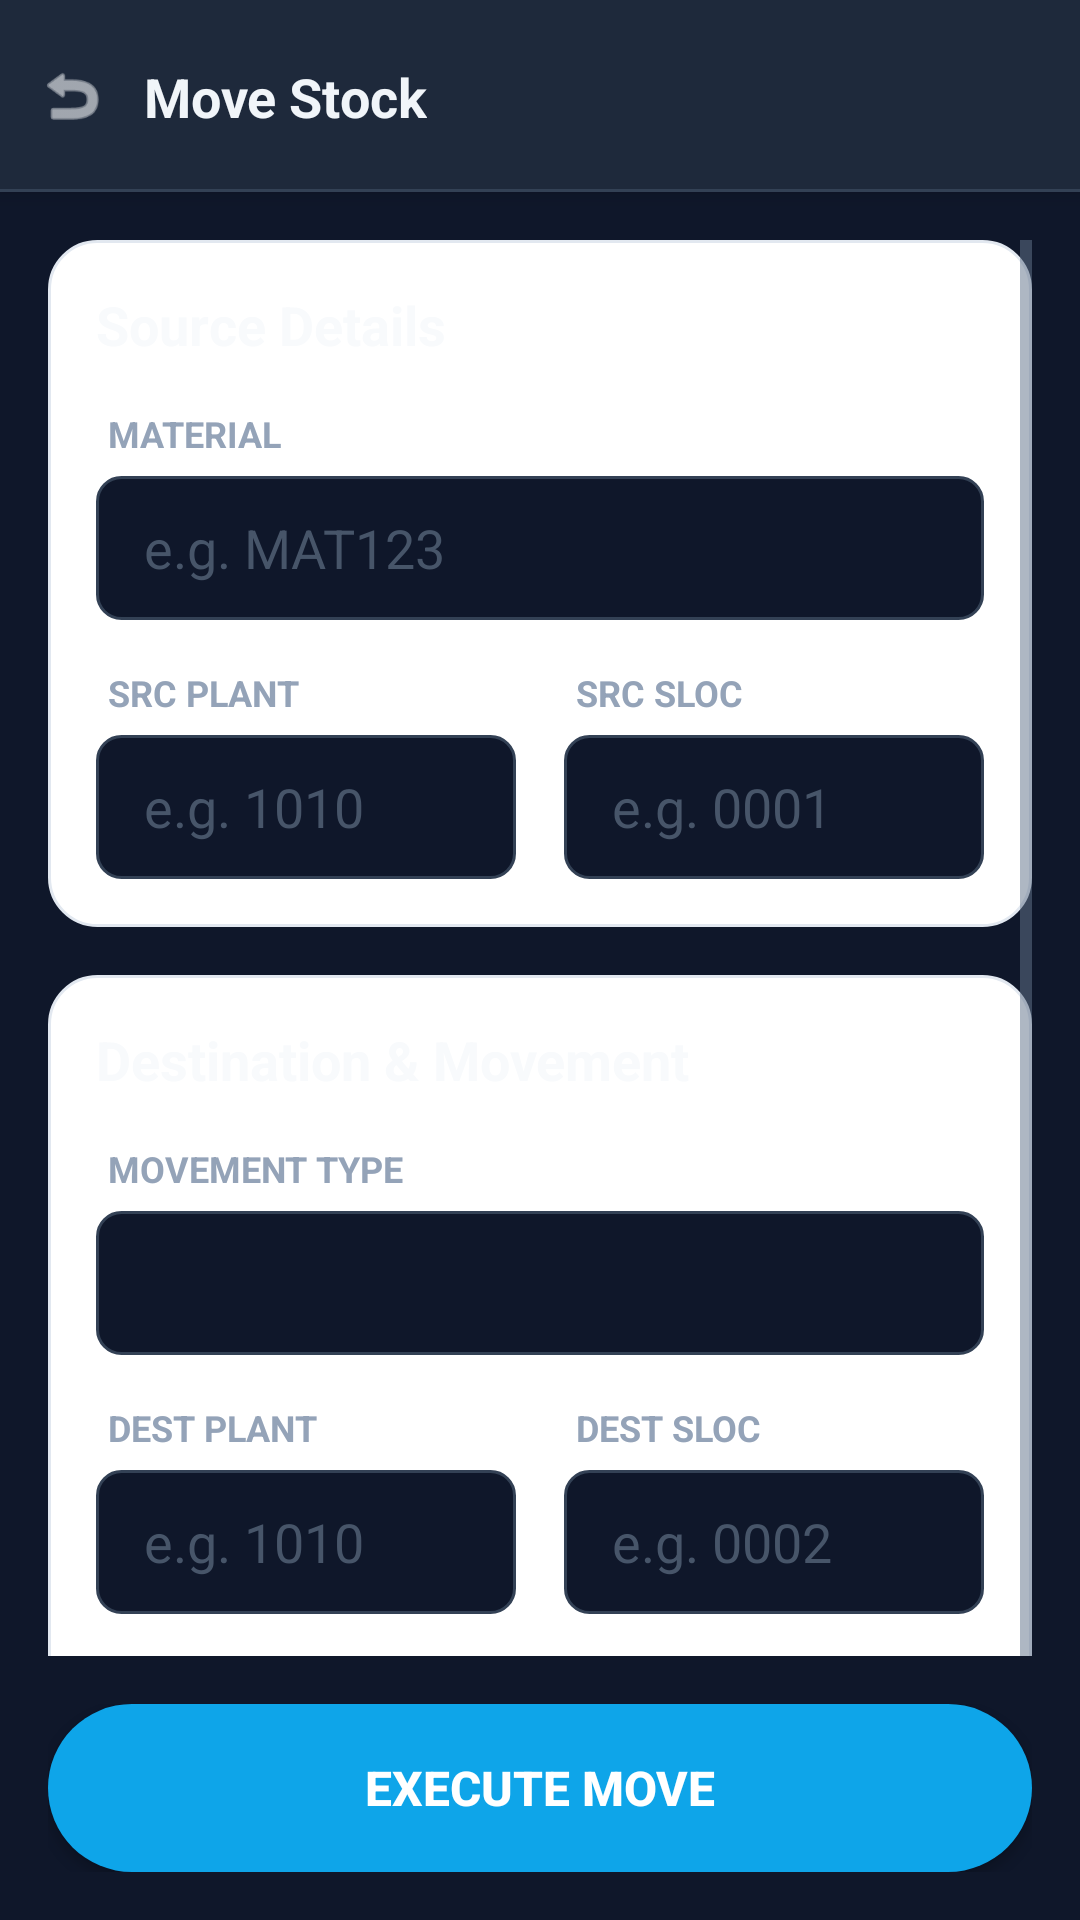

Point at icon controls on the screen. Image size 1080 x 1920, points as (x,y).
revert: (73,96)
